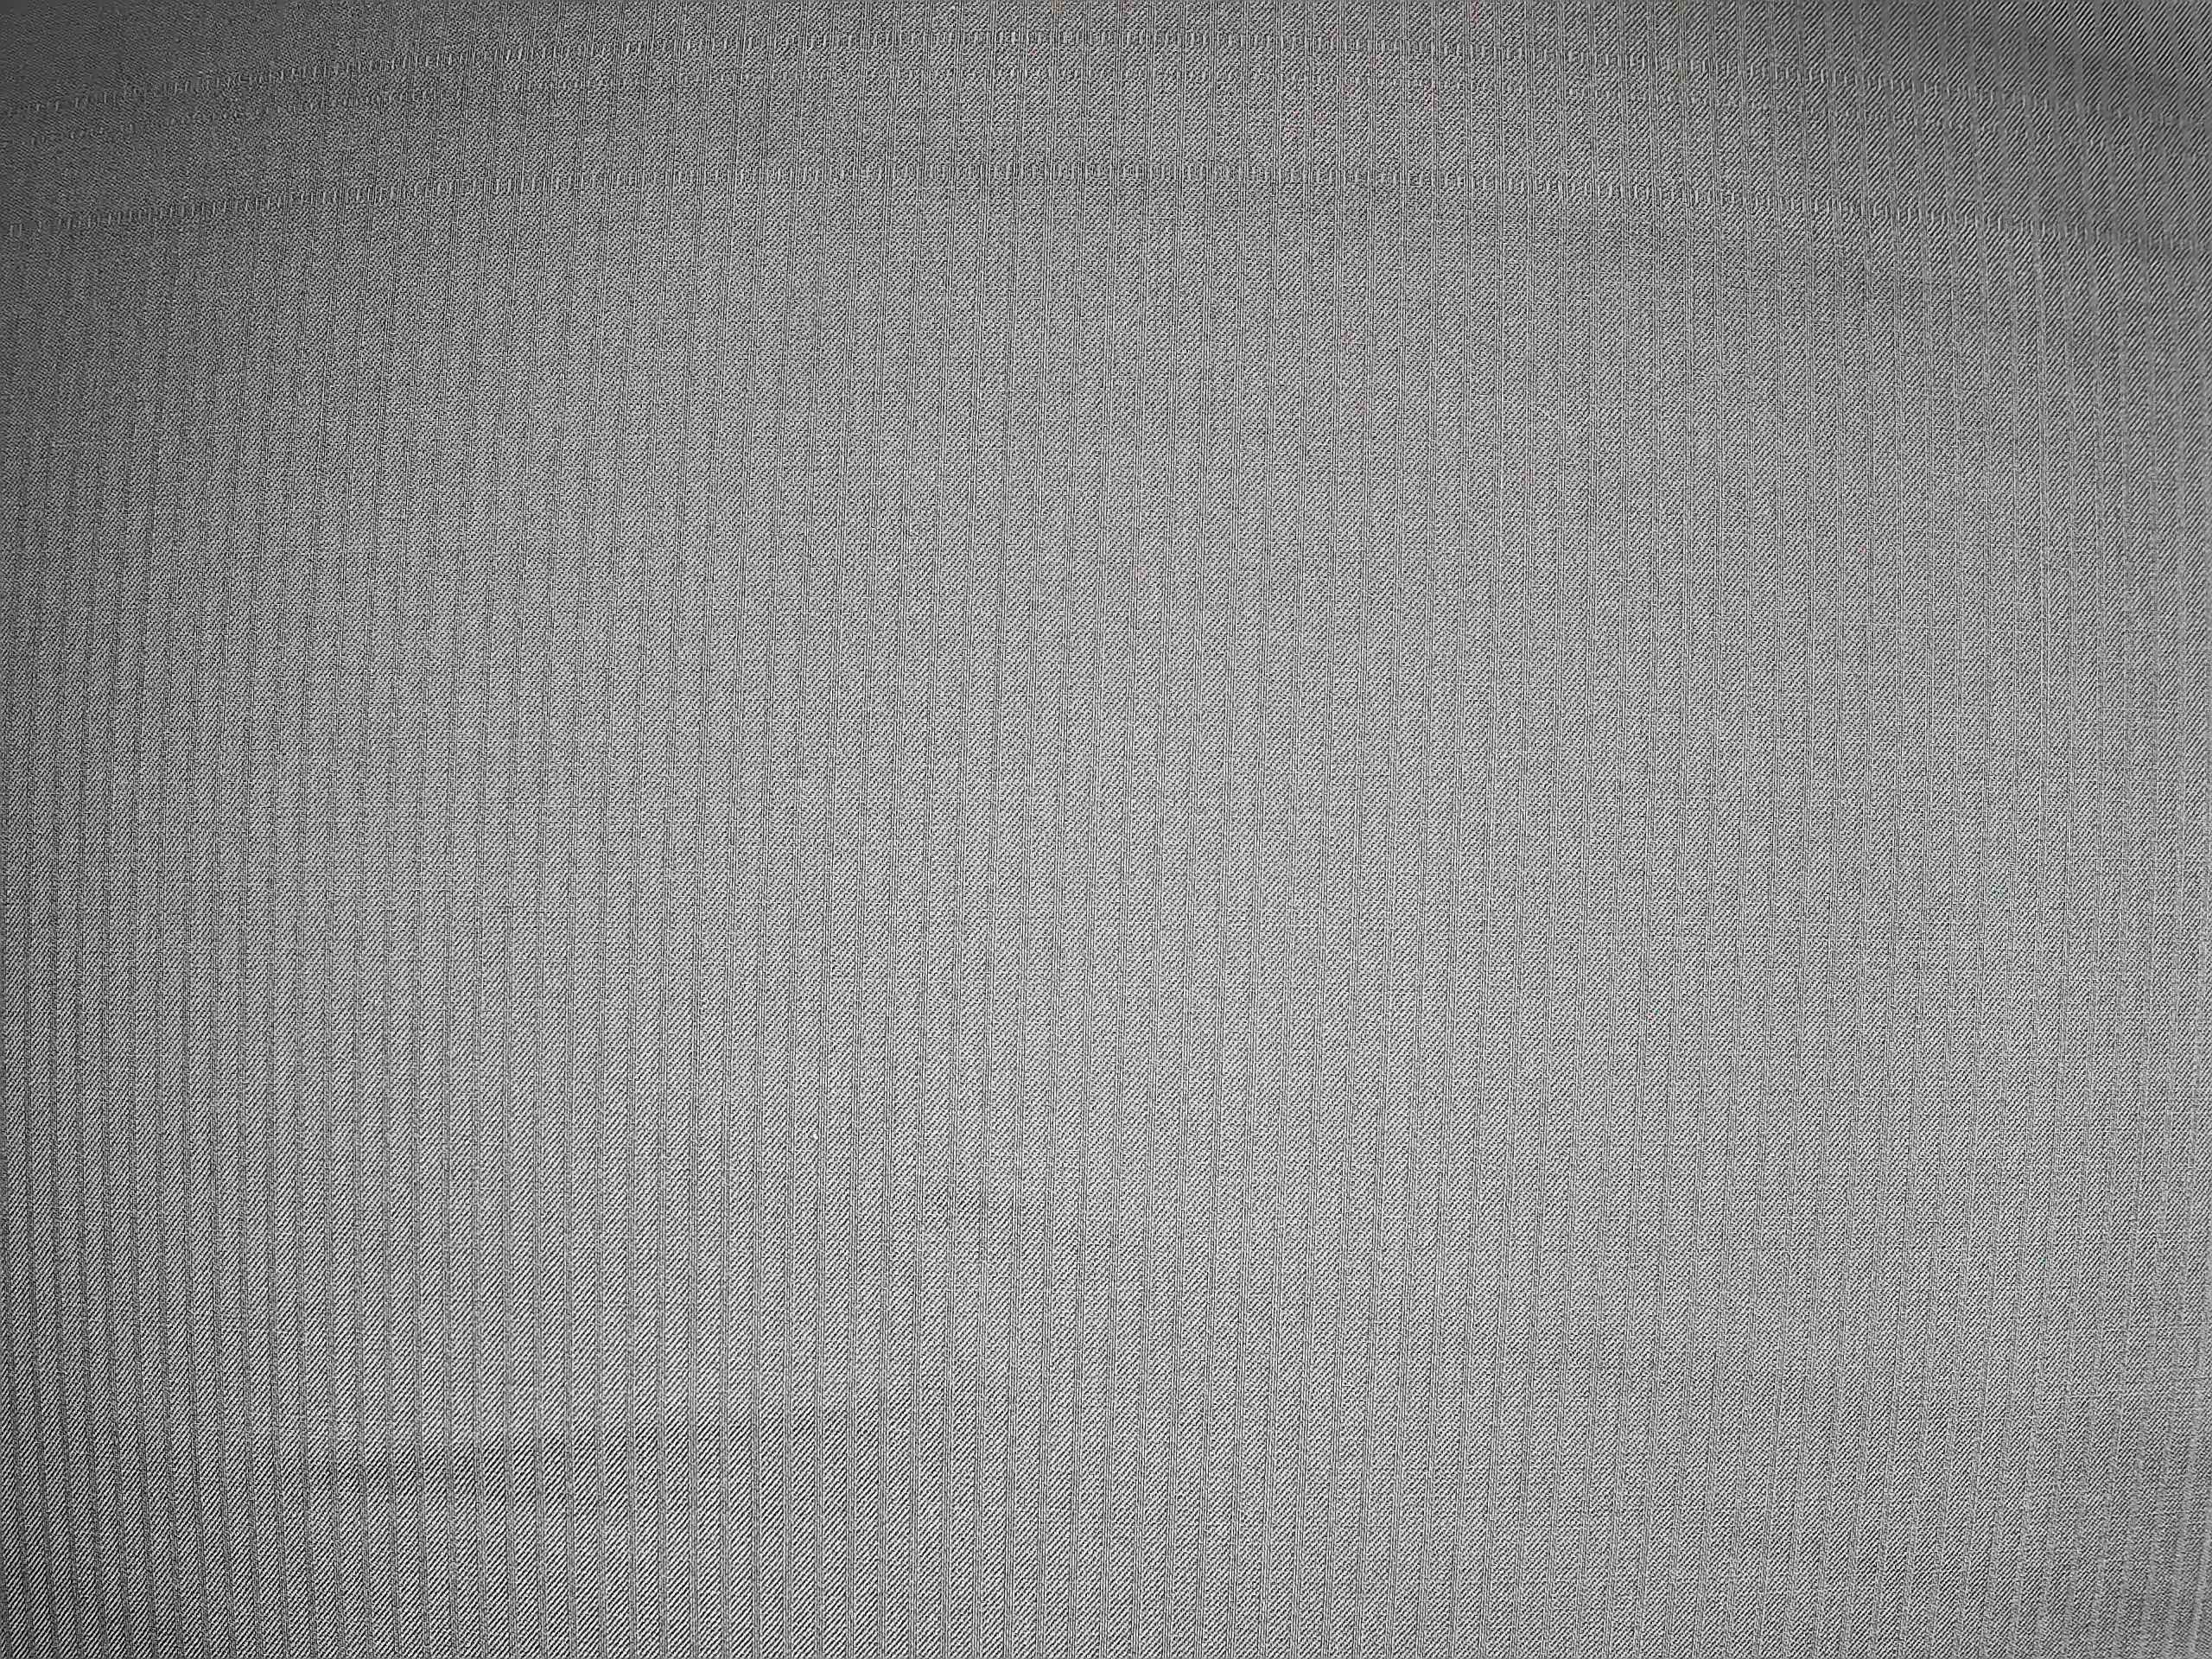others: (7, 26, 2203, 256)
